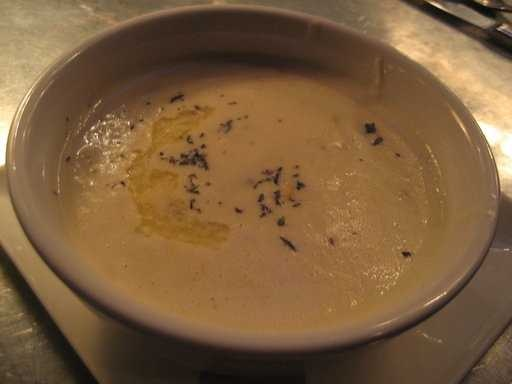soup: (33, 17, 482, 331)
